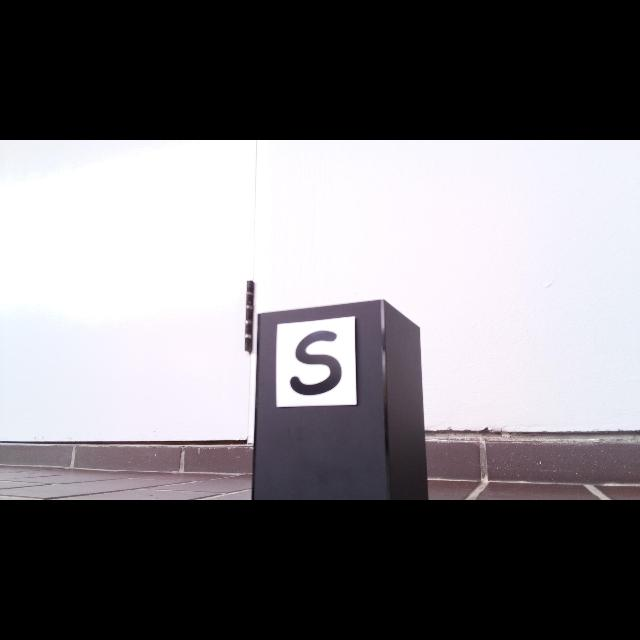S: (290, 331, 342, 396)
